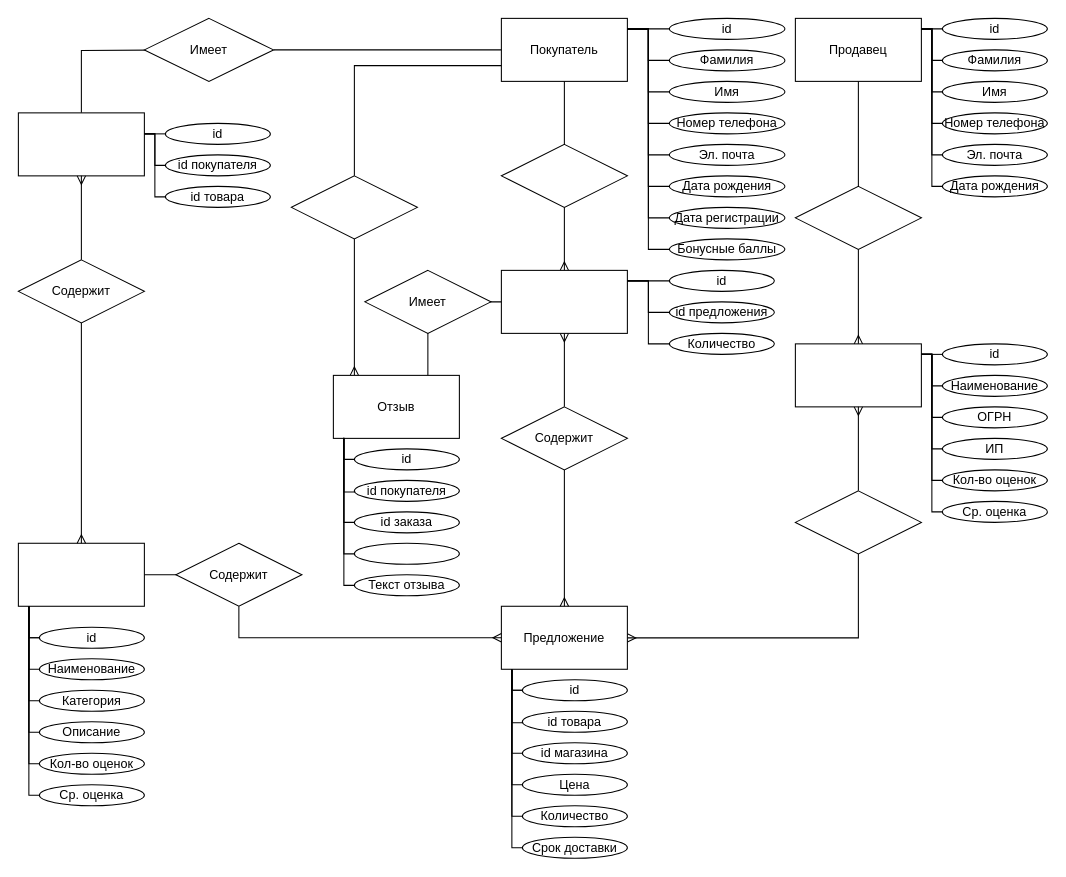
The diagram is 1066 pixels wide and 877 high, and some of its shapes have lost their labels. Each missing label, with the box of its shape:
Владеет: (794, 185, 921, 249)
Заказ: (500, 269, 627, 333)
Избранное: (17, 112, 144, 176)
Магазин: (794, 343, 921, 407)
Оформляет: (500, 143, 627, 207)
Оценка: (353, 542, 459, 564)
Пишет: (290, 175, 417, 239)
Предлагает: (794, 490, 921, 554)
Товар: (17, 542, 144, 606)
